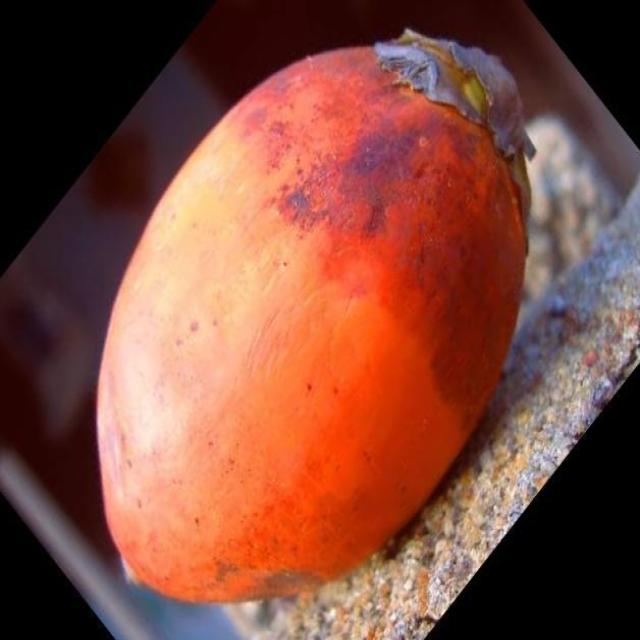good: (94, 30, 533, 607)
